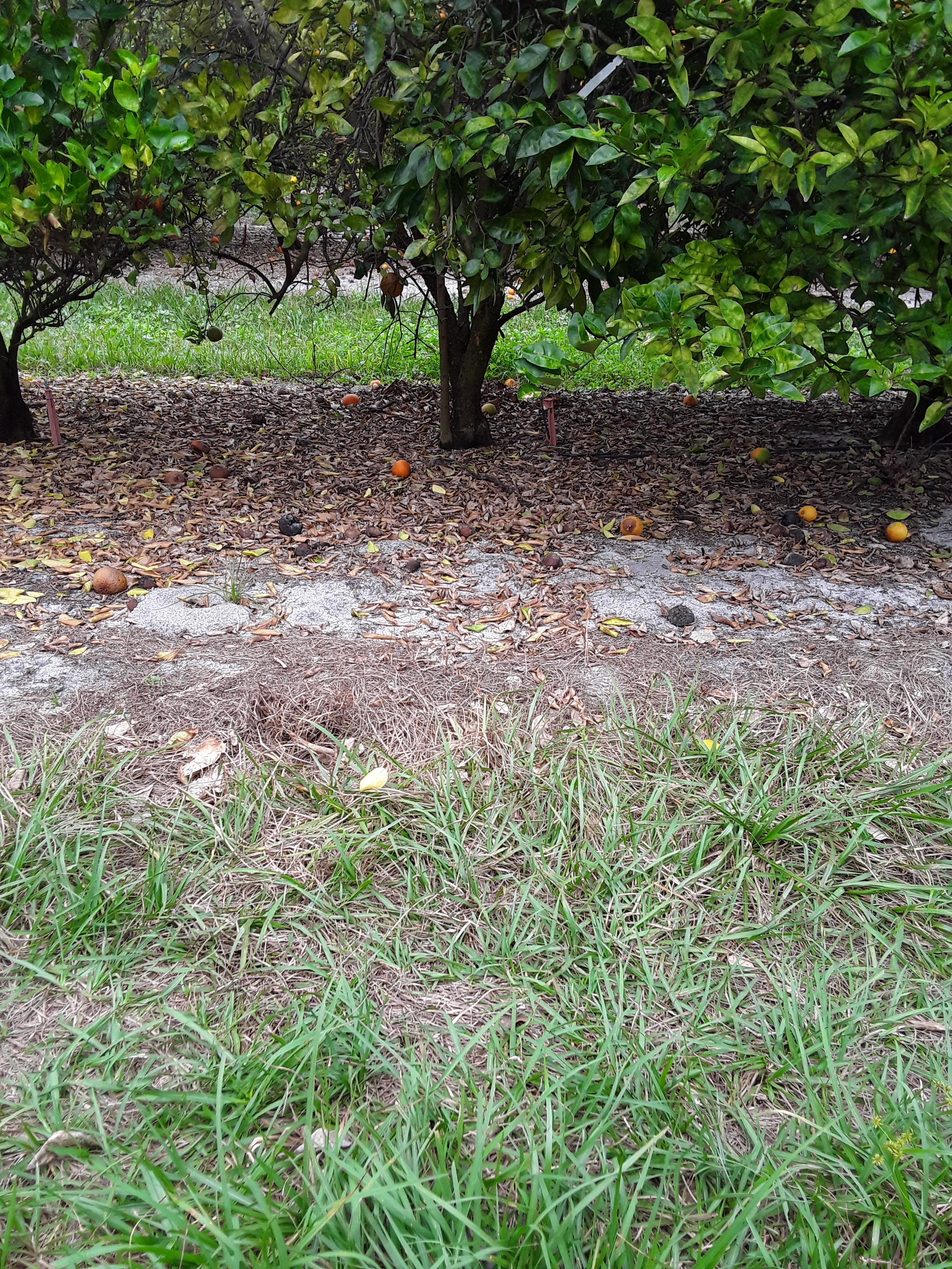fruit_on_ground: (127, 185, 171, 220), (378, 268, 409, 301), (203, 323, 225, 344)
fruit_on_tree: (84, 563, 132, 598), (881, 519, 912, 544), (618, 514, 645, 540), (746, 442, 774, 466), (388, 457, 414, 480), (796, 502, 819, 524), (188, 437, 212, 456), (479, 399, 499, 419), (338, 390, 362, 406), (680, 392, 701, 408), (207, 464, 229, 479), (504, 376, 518, 389), (208, 234, 221, 246), (507, 287, 515, 295), (507, 294, 514, 300)
